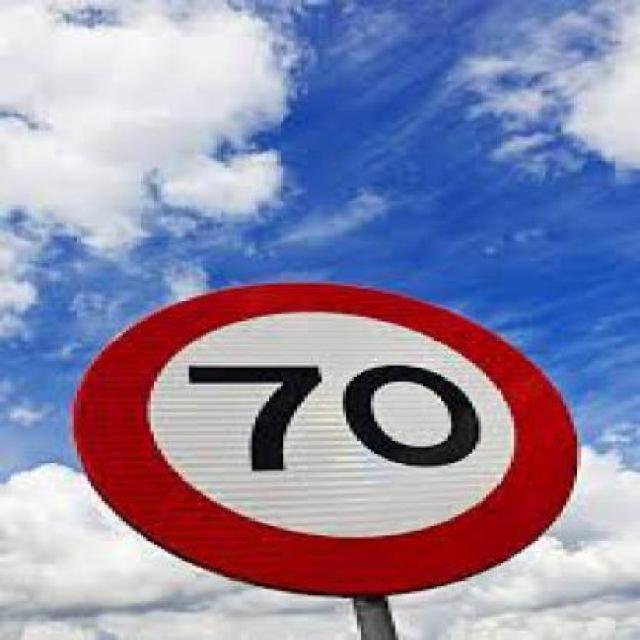forb_speed_over_70: (78, 284, 581, 591)
